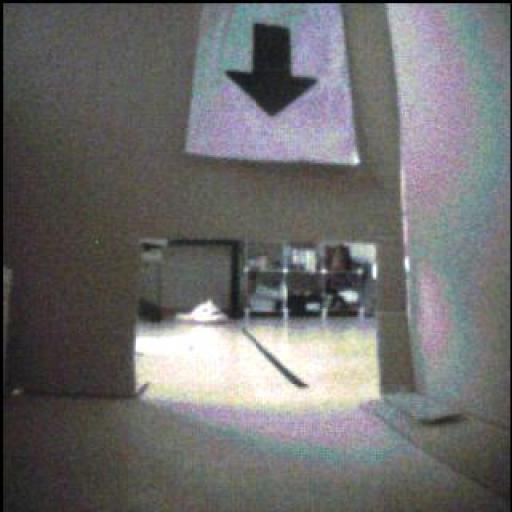arrow: (227, 25, 318, 116)
